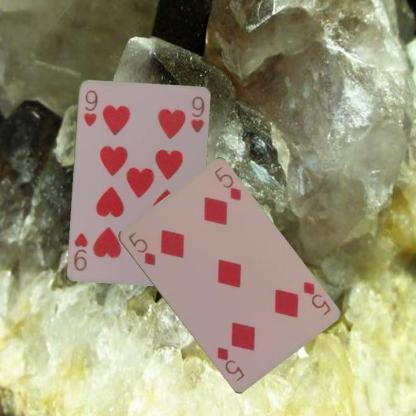5d: (298, 277, 332, 318), (124, 229, 157, 267)
9h: (80, 87, 99, 127)
